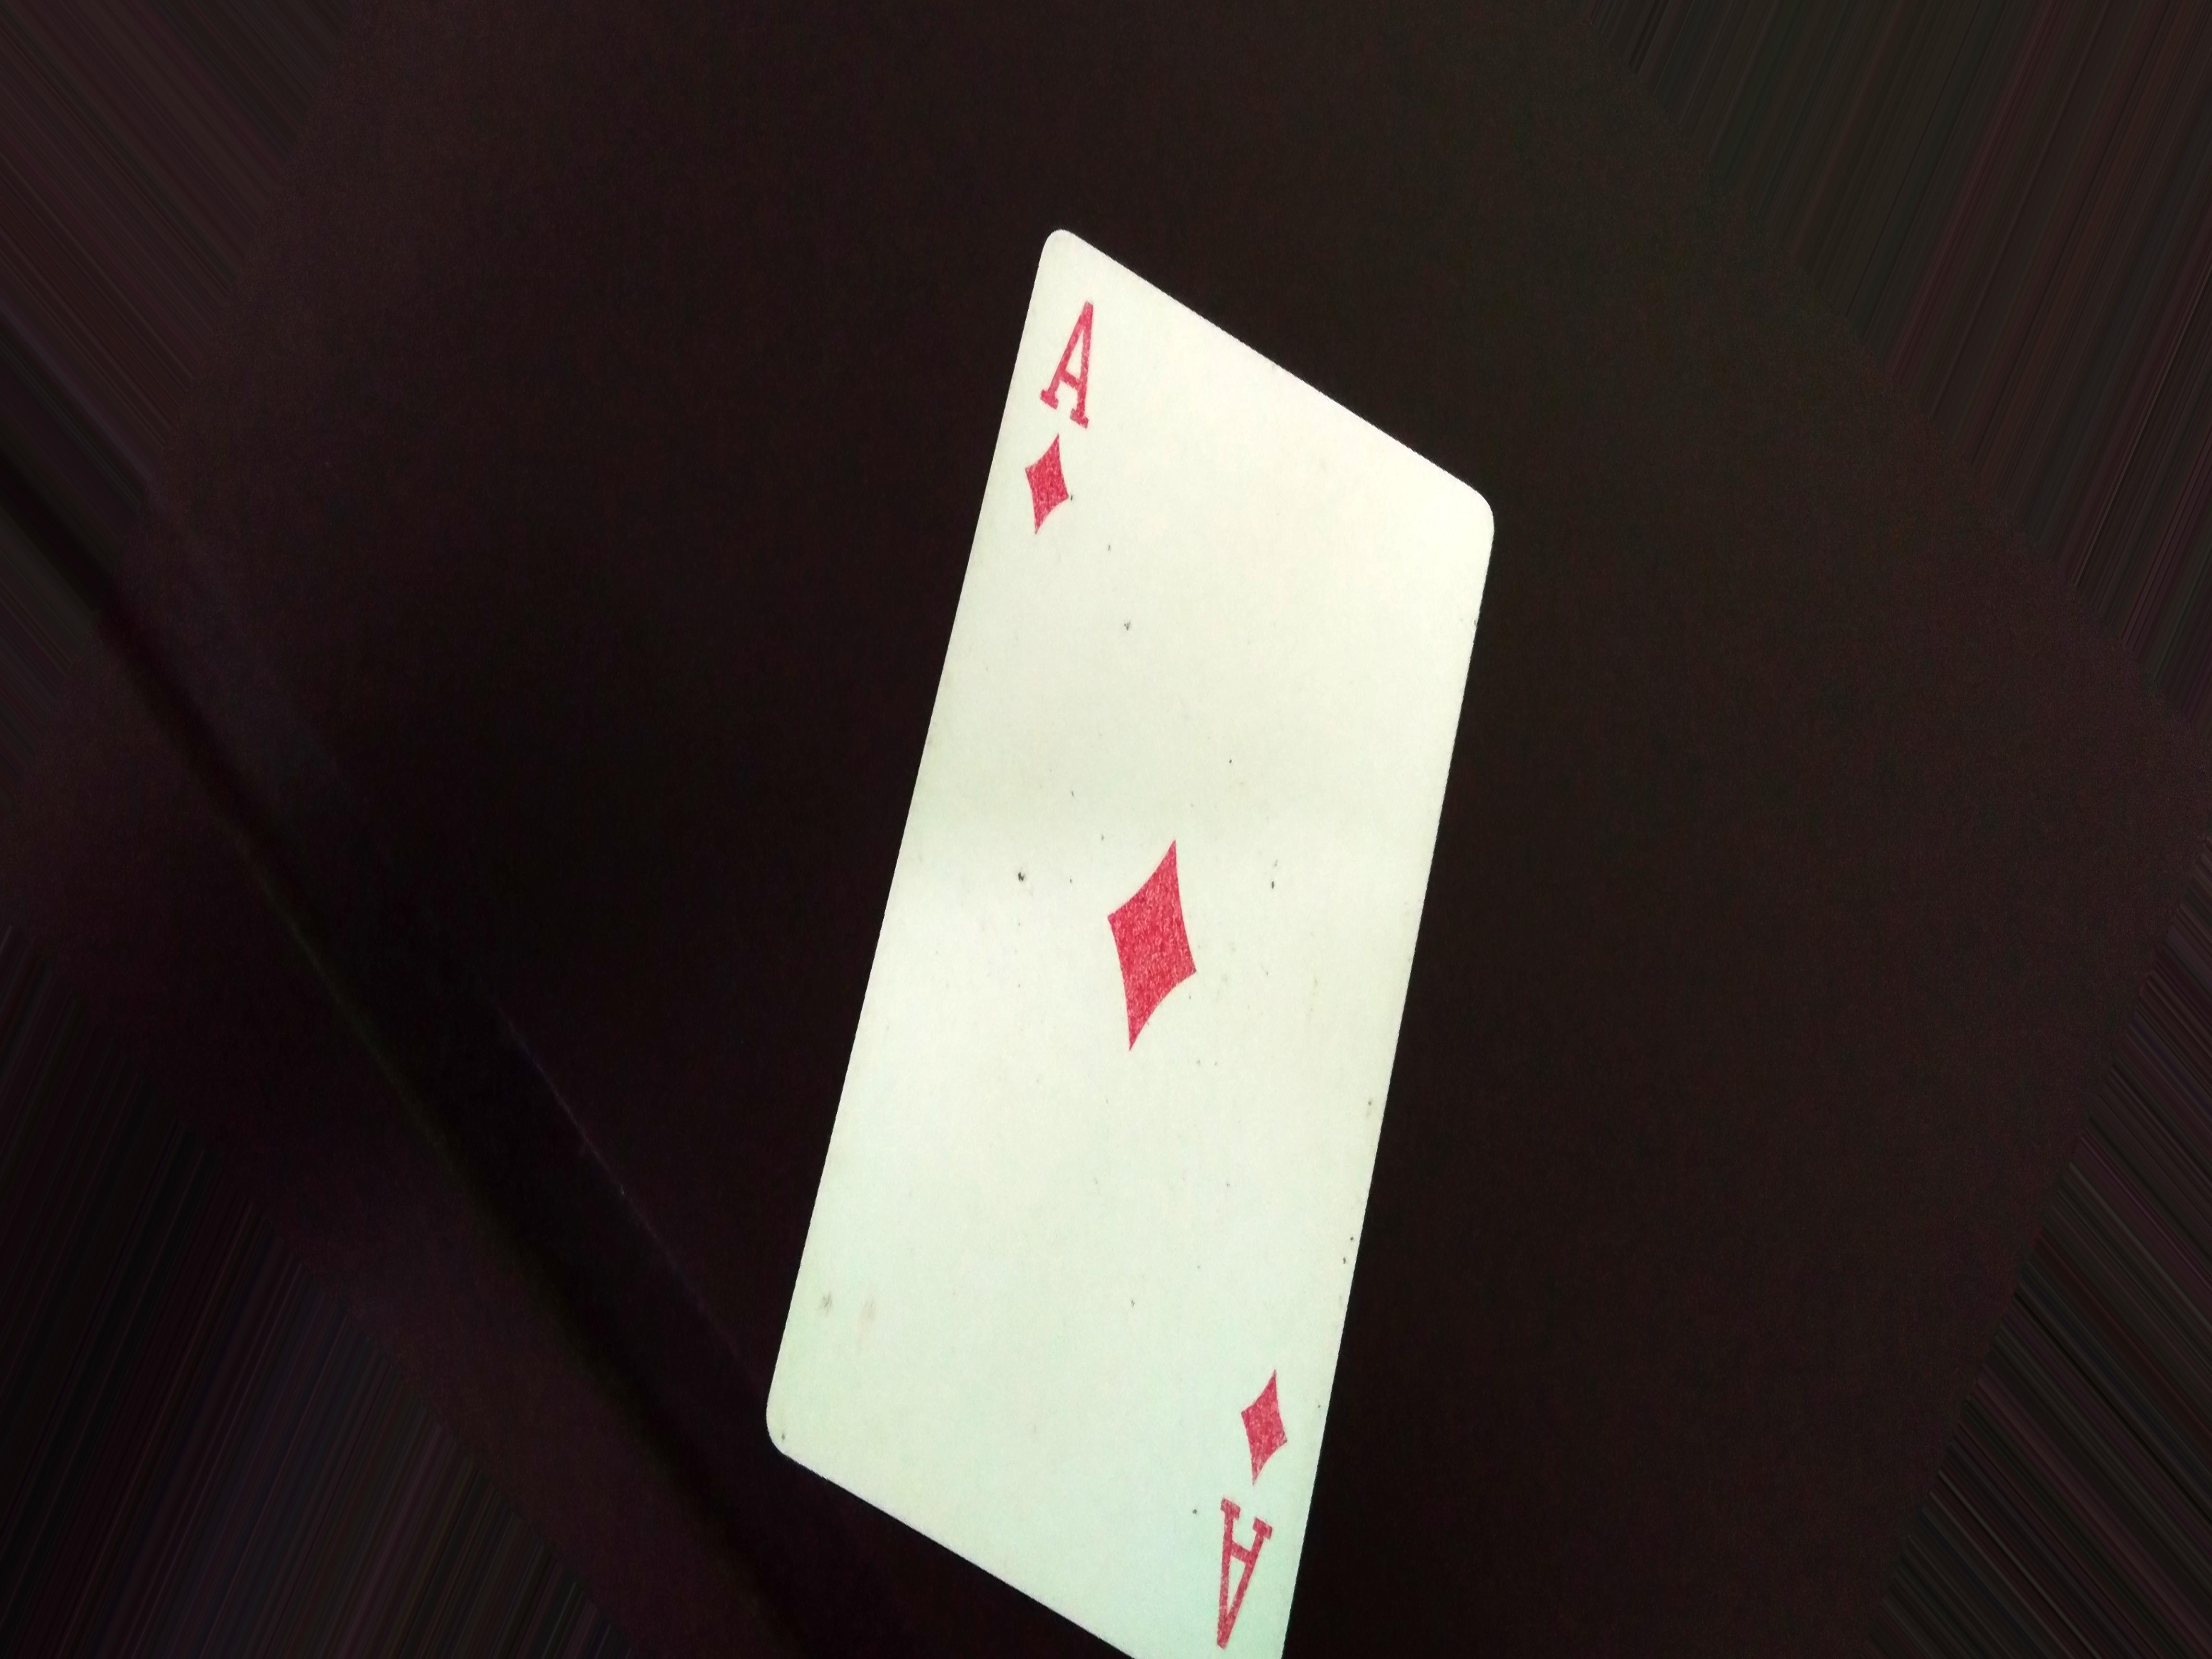AD: (1197, 1356, 1299, 1647)
